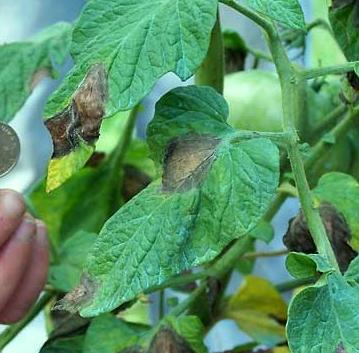Tomato leaf late blight: (46, 82, 294, 324), (29, 0, 219, 196), (274, 246, 359, 353)
